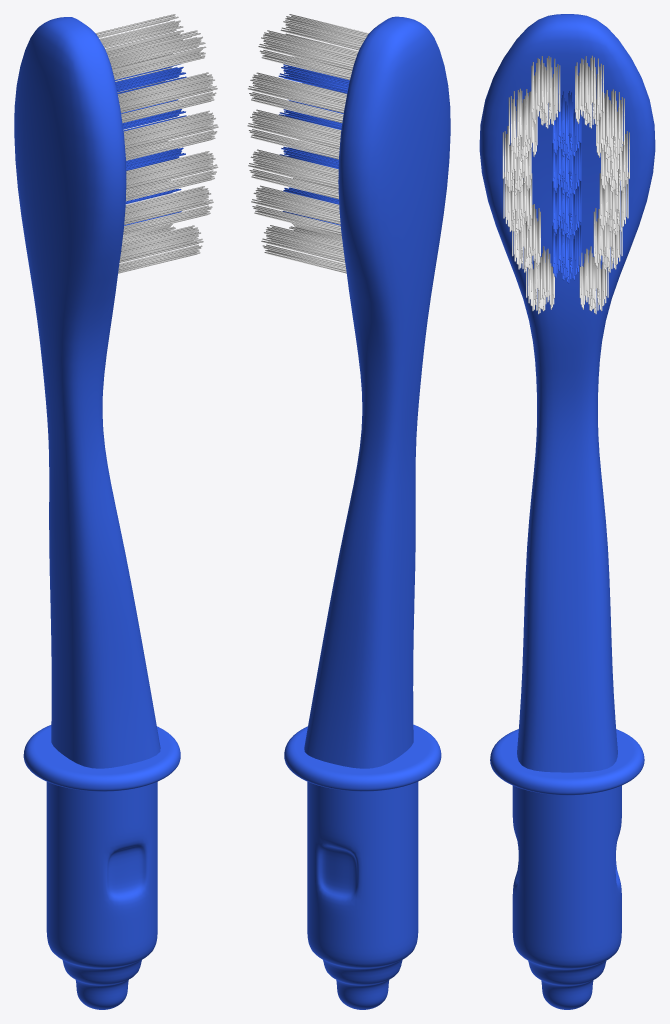
Rendered from Brosse.glb.
The picture shows the model from 3 angles, left to right: view 1: azimuth 30°, elevation 25°; view 2: azimuth 150°, elevation 25°; view 3: azimuth 270°, elevation 25°; orthographic projection.
Parts seen in each view (by area): view 1: MancheBrosse.003; view 2: MancheBrosse.003; view 3: MancheBrosse.003.
Boxes of the visible parts, x1,y1,x2,y2 form: MancheBrosse.003: (14, 14, 218, 1009); MancheBrosse.003: (247, 14, 450, 1009); MancheBrosse.003: (479, 14, 655, 1009).
Bounding box in the file's own units: 0.5006 × 3.08 × 0.5046.
